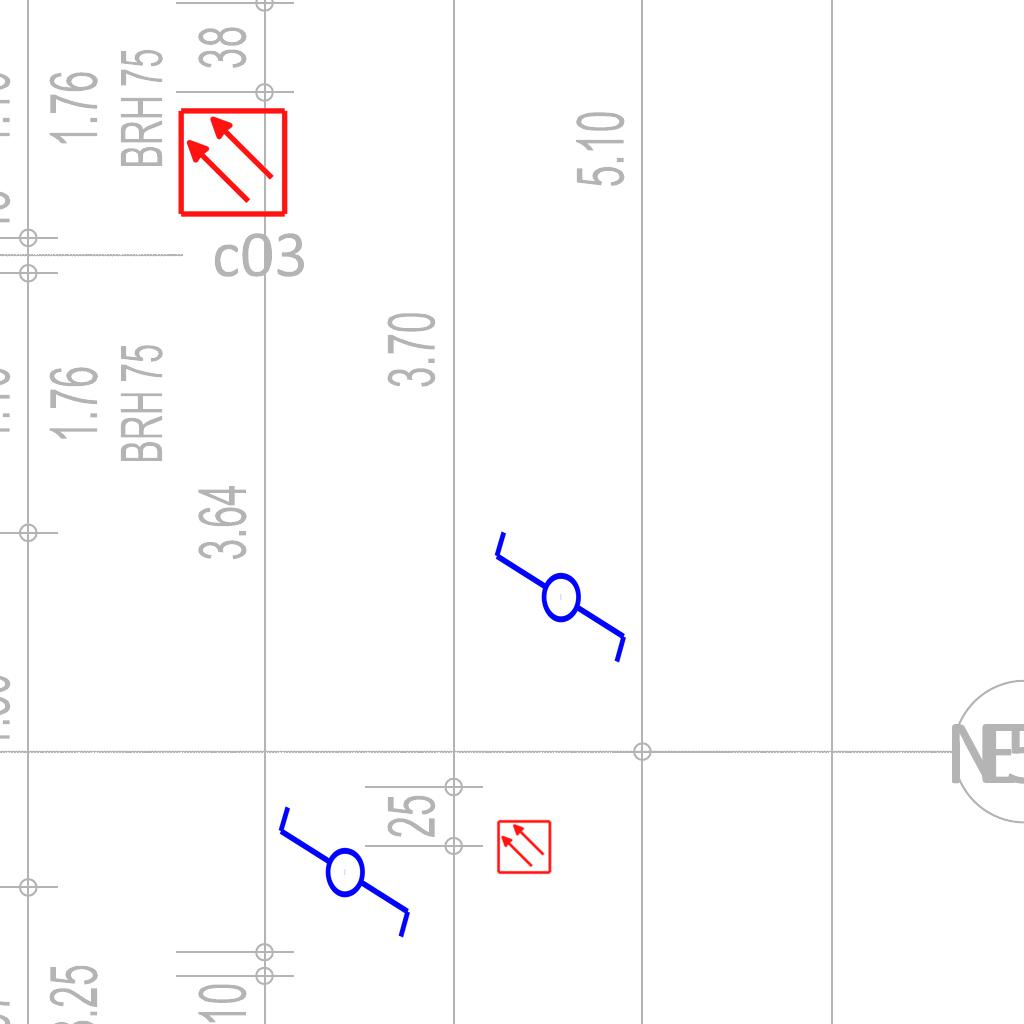RMO_Rauchmelder_optischer: (176, 106, 289, 219), (496, 819, 552, 875)
Wechselschalter: (271, 802, 415, 959), (487, 527, 631, 684)
